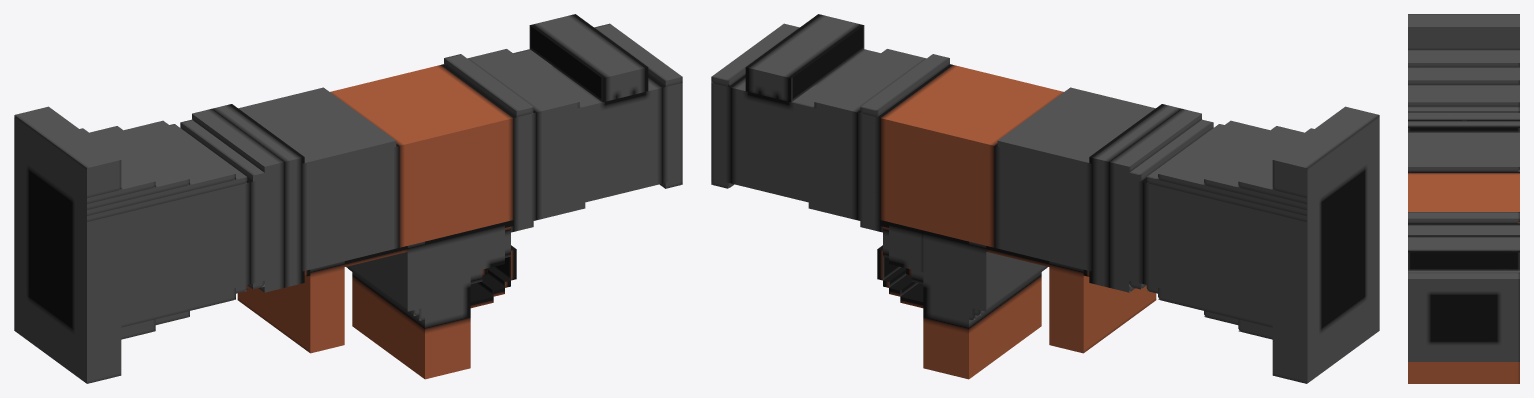
File: Bazuka.dae
3 renders of one model, left to right at view 1: azimuth 30°, elevation 25°; view 2: azimuth 150°, elevation 25°; view 3: azimuth 270°, elevation 25°, orthographic. The views are drawn at different scales.
Parts seen in each view (by area): view 1: Content; view 2: Content; view 3: Content.
Part boxes in pixels (left/top/right/bottom): Content: left=14, top=14, right=682, bottom=383; Content: left=711, top=14, right=1379, bottom=383; Content: left=1408, top=14, right=1519, bottom=383.
Size of the model in its own units: 104 by 49 by 22.
Materials: 1 (1 with a texture image).
